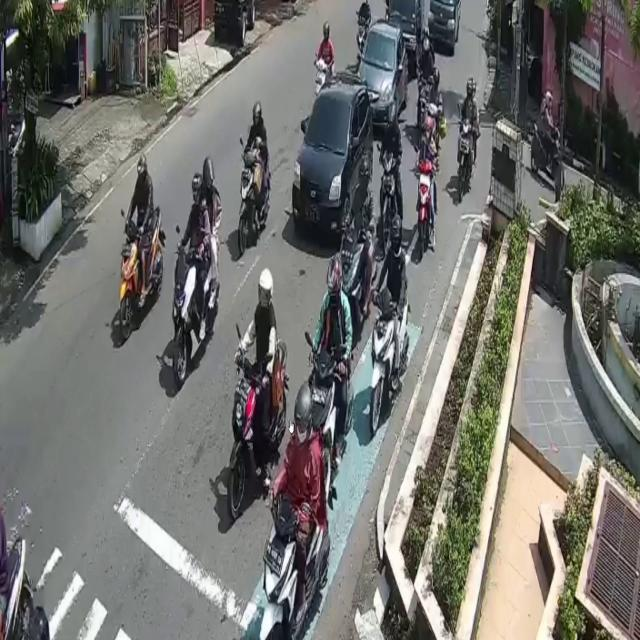car: (293, 73, 370, 238), (357, 18, 408, 128), (387, 0, 421, 72), (427, 0, 461, 56)
motorbike: (260, 448, 333, 640), (230, 338, 287, 521), (173, 241, 220, 386), (118, 204, 163, 340), (370, 290, 410, 432), (240, 148, 271, 252), (534, 114, 566, 198), (417, 156, 438, 258), (379, 150, 399, 250), (458, 112, 473, 204)
